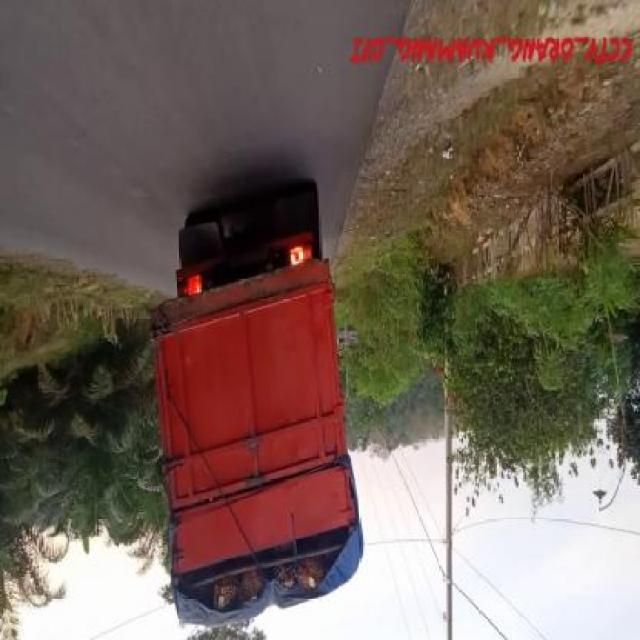truck: (153, 166, 365, 640)
